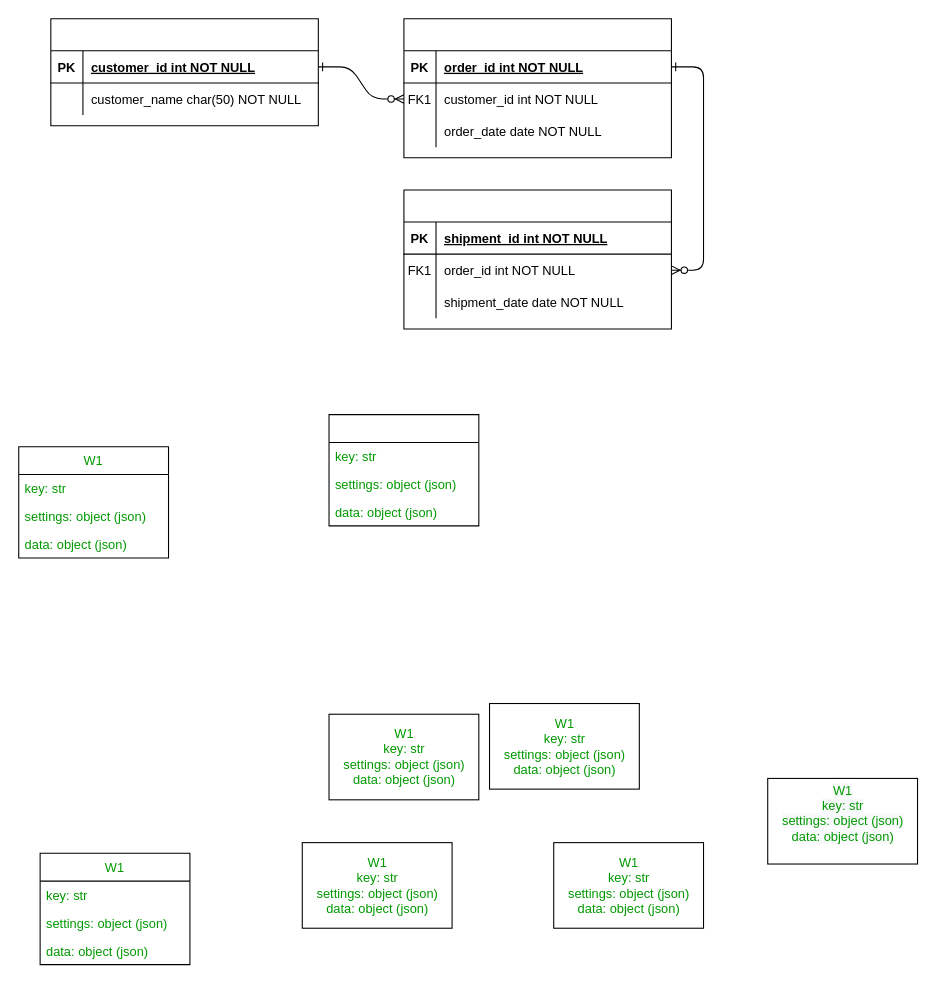
This 936x987 diagram has some shape labels left out. The shapes that lost their labels are listed below. From the top down, each one's box as (x1, y1, x2, y2) in pixels, then its label:
(50, 18, 318, 126): Customers
(403, 18, 671, 158): Orders
(403, 189, 671, 329): Shipments
